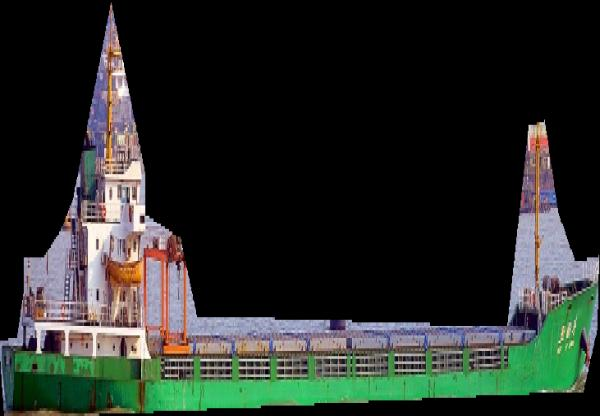Bulkers: (0, 2, 599, 416)
